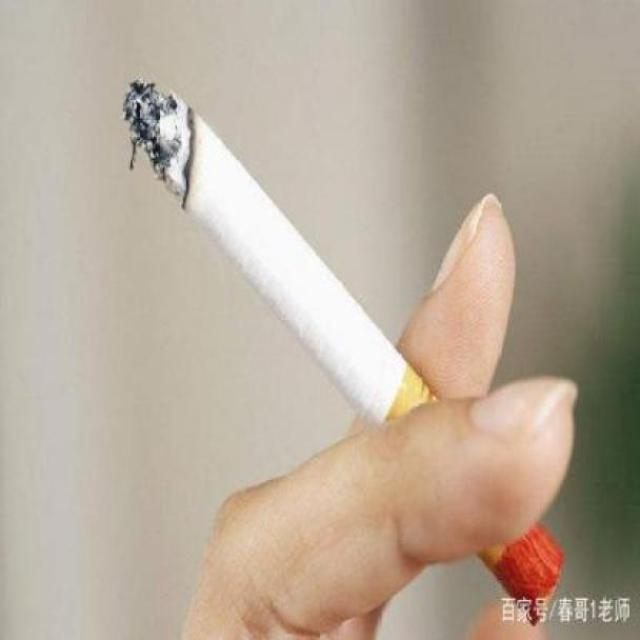rokok: (117, 72, 563, 630)
